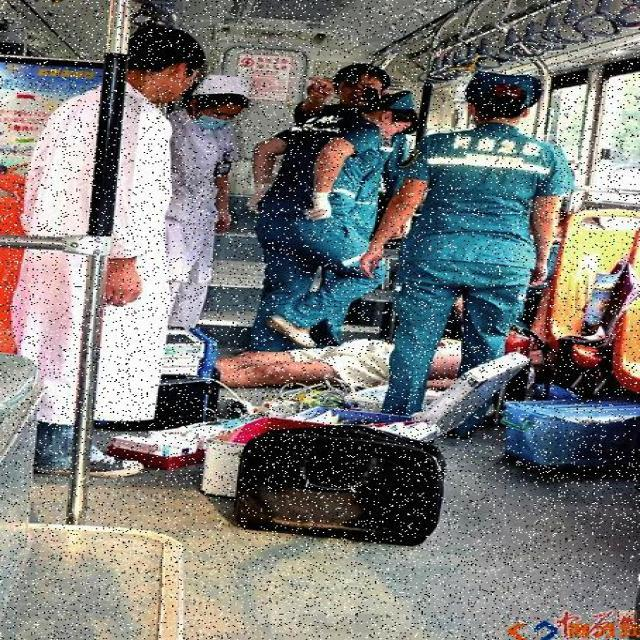fall: (204, 338, 567, 394)
